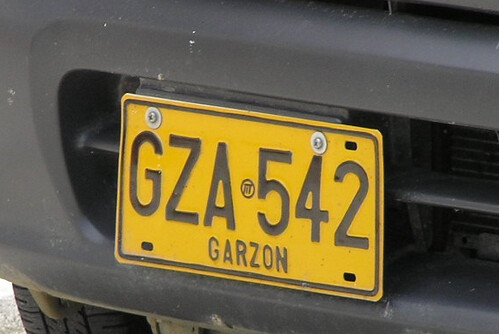placa_carro: (107, 84, 399, 313)
